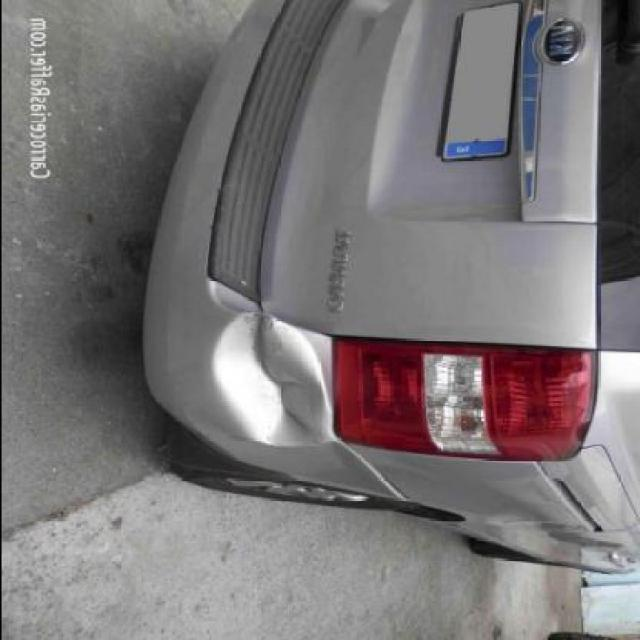damage: (212, 311, 331, 448)
